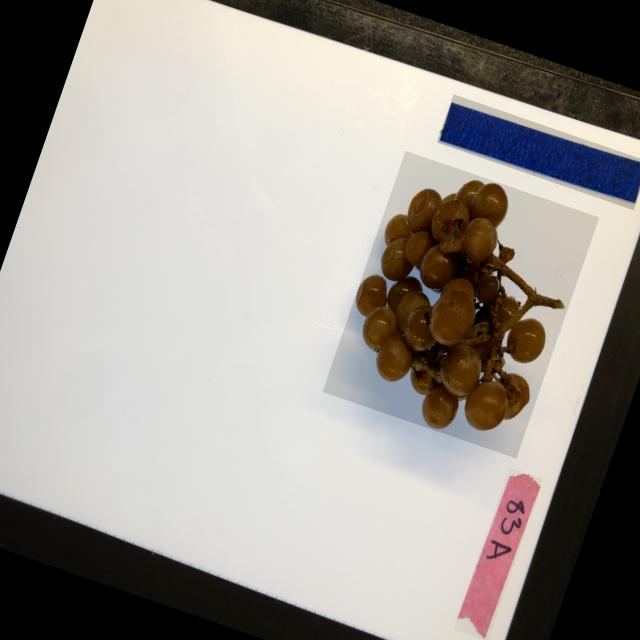grape_cluster: (321, 150, 598, 458)
index: (451, 467, 542, 640)
measure_label: (435, 93, 640, 209)
